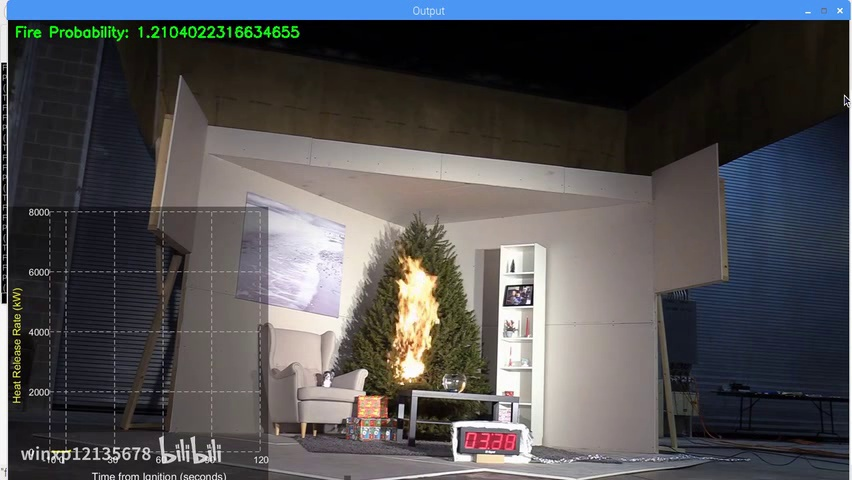fire: (391, 249, 441, 386)
